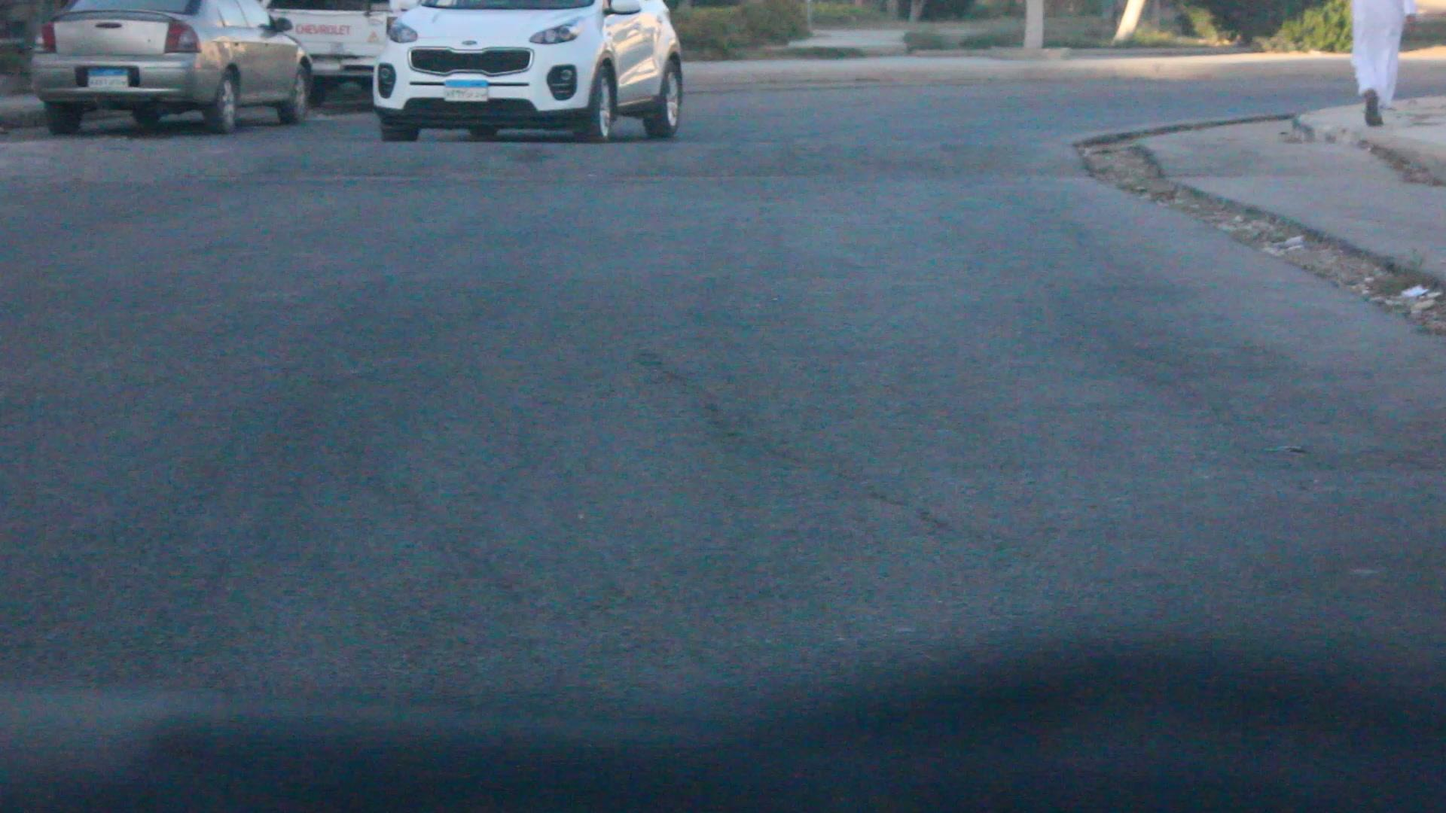Bump: (4, 130, 1090, 183)
